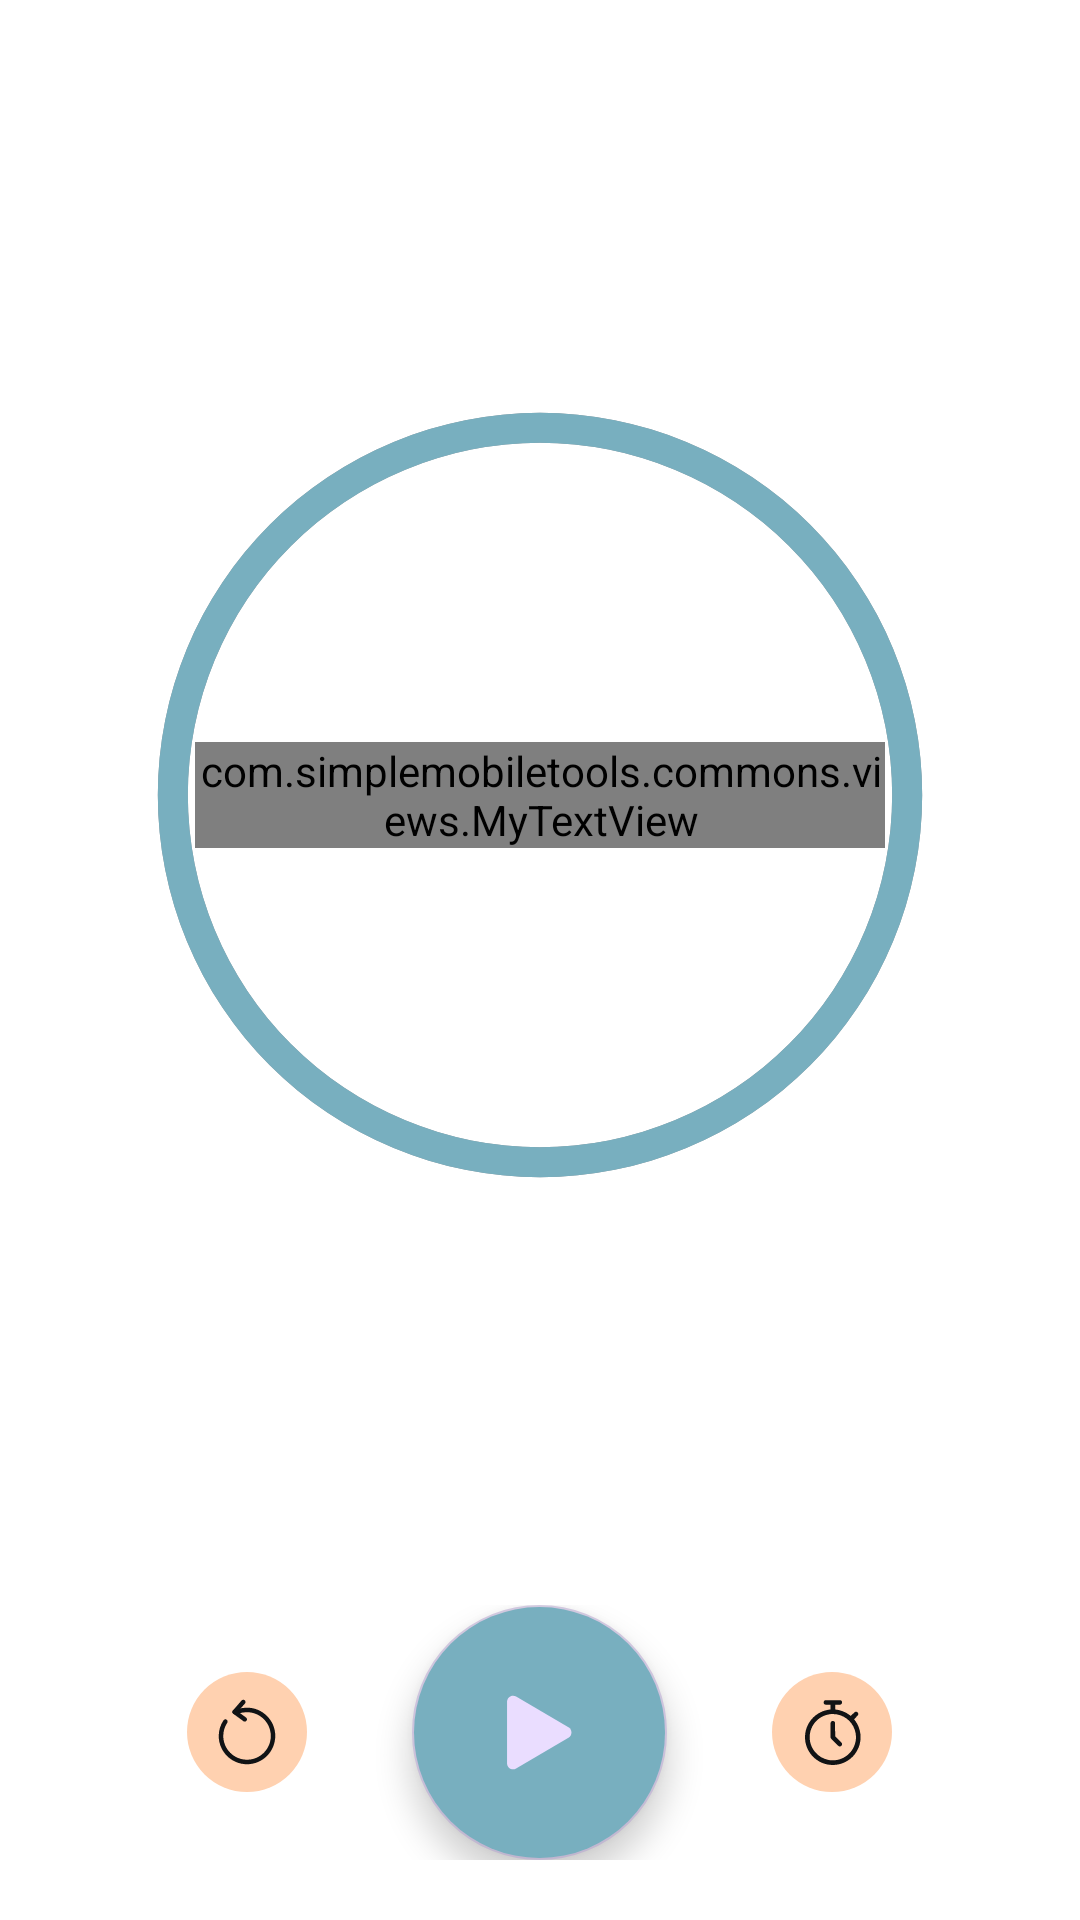

Screen size 1080w x 1920h. Icon name, then its box in pixels as box(x1, y1, x2, y2):
play: box(412, 1605, 667, 1860)
stopwatch reset: box(187, 1672, 307, 1792)
stopwatch timer: box(772, 1672, 892, 1792)
